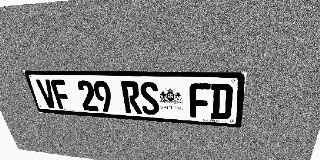2: (76, 80, 99, 111)
9: (92, 80, 114, 112)
D: (210, 83, 233, 120)
F: (189, 83, 210, 119), (50, 79, 73, 109)
R: (120, 81, 142, 114)
S: (139, 82, 160, 115)
V: (35, 79, 59, 109)
